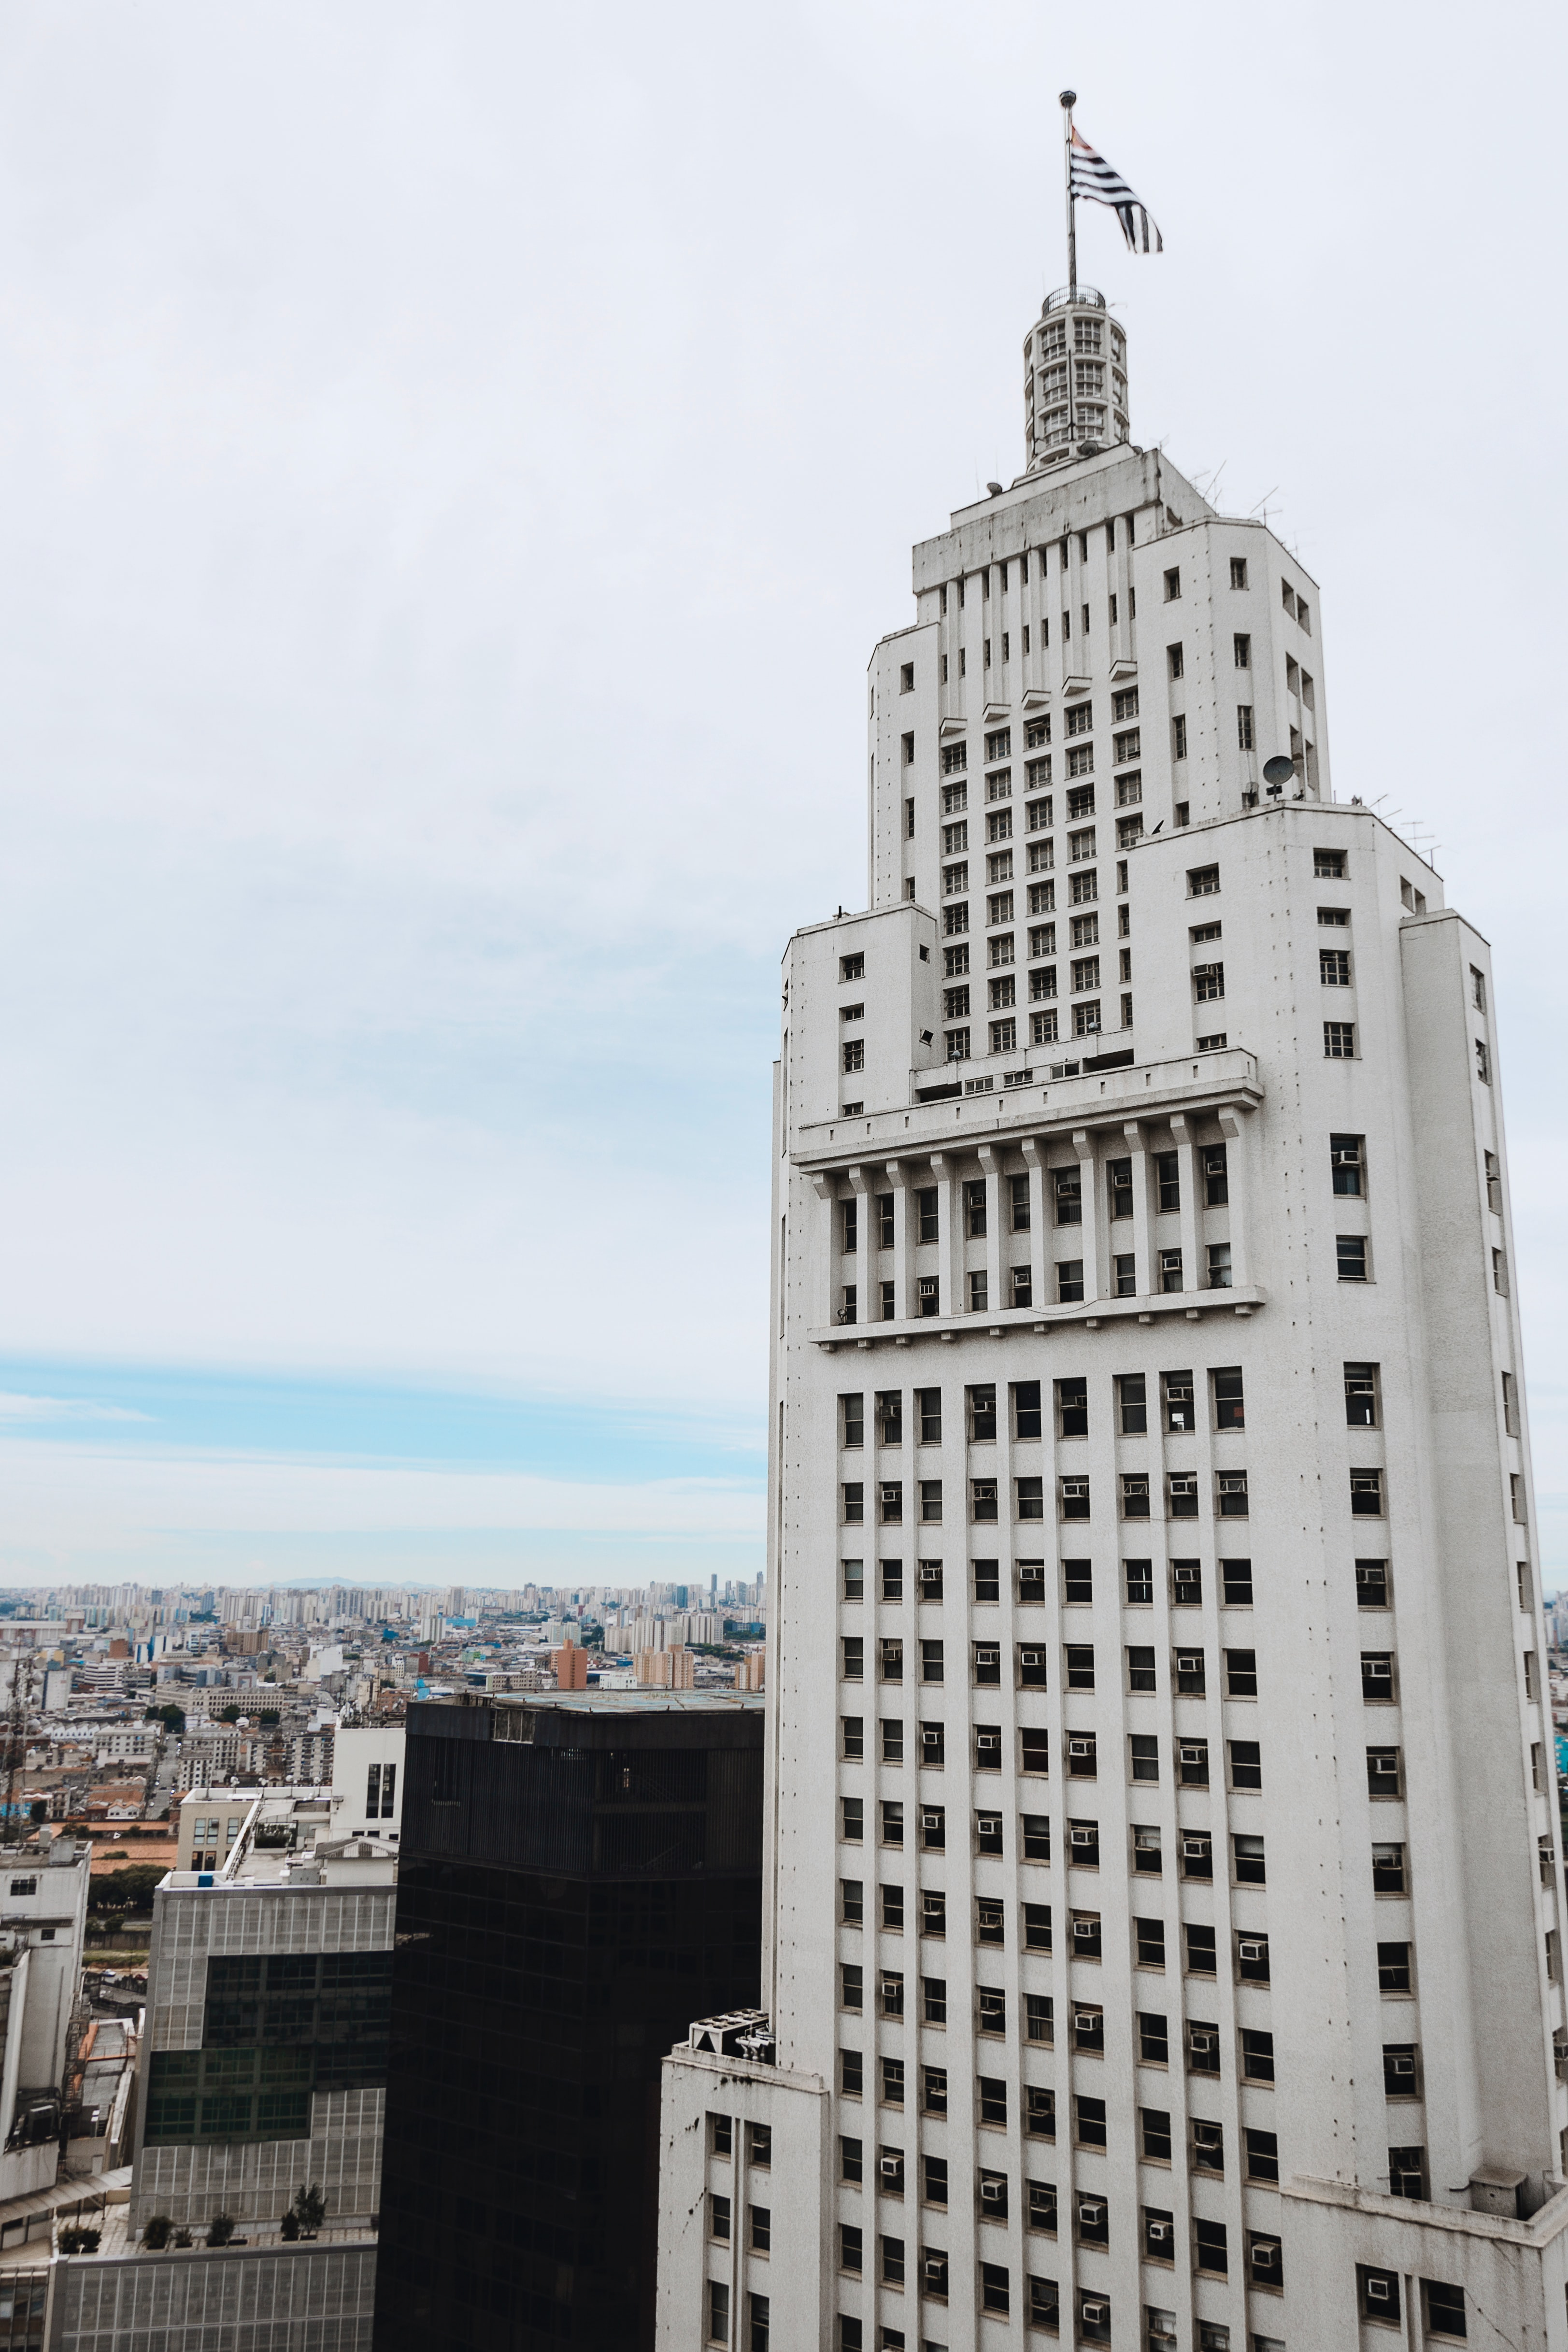Flag: (1060, 112, 1176, 268)
